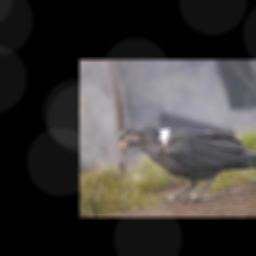Crow: (116, 120, 256, 205)
